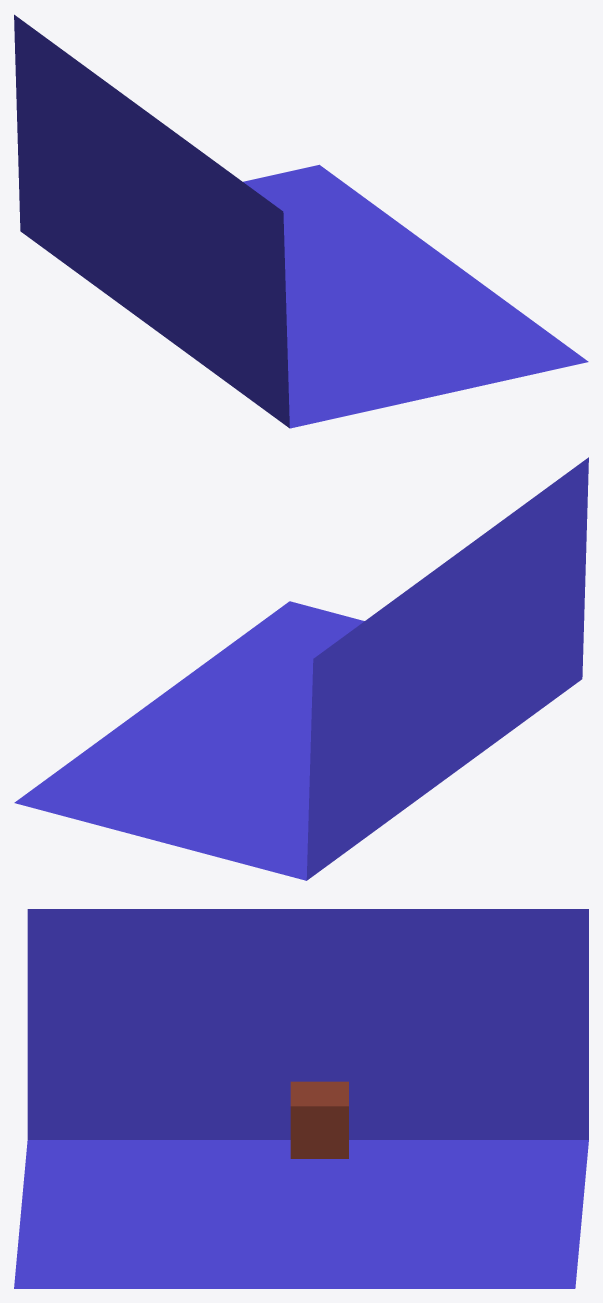
The model's file is test_light_map.glb.
3 renders of one model, top to bottom at view 1: azimuth 30°, elevation 25°; view 2: azimuth 150°, elevation 25°; view 3: azimuth 270°, elevation 25°, orthographic. The views are drawn at different scales.
Visible parts, largest first — view 1: Plane; view 2: Plane; view 3: Plane, Cube.
Part boxes in pixels (left/top/right/bottom): Plane: left=14, top=14, right=588, bottom=428; Plane: left=14, top=457, right=588, bottom=880; Plane: left=14, top=909, right=588, bottom=1288; Cube: left=290, top=1081, right=348, bottom=1158.
Bounding box in the file's own units: 12.36 × 8.63 × 19.75.
